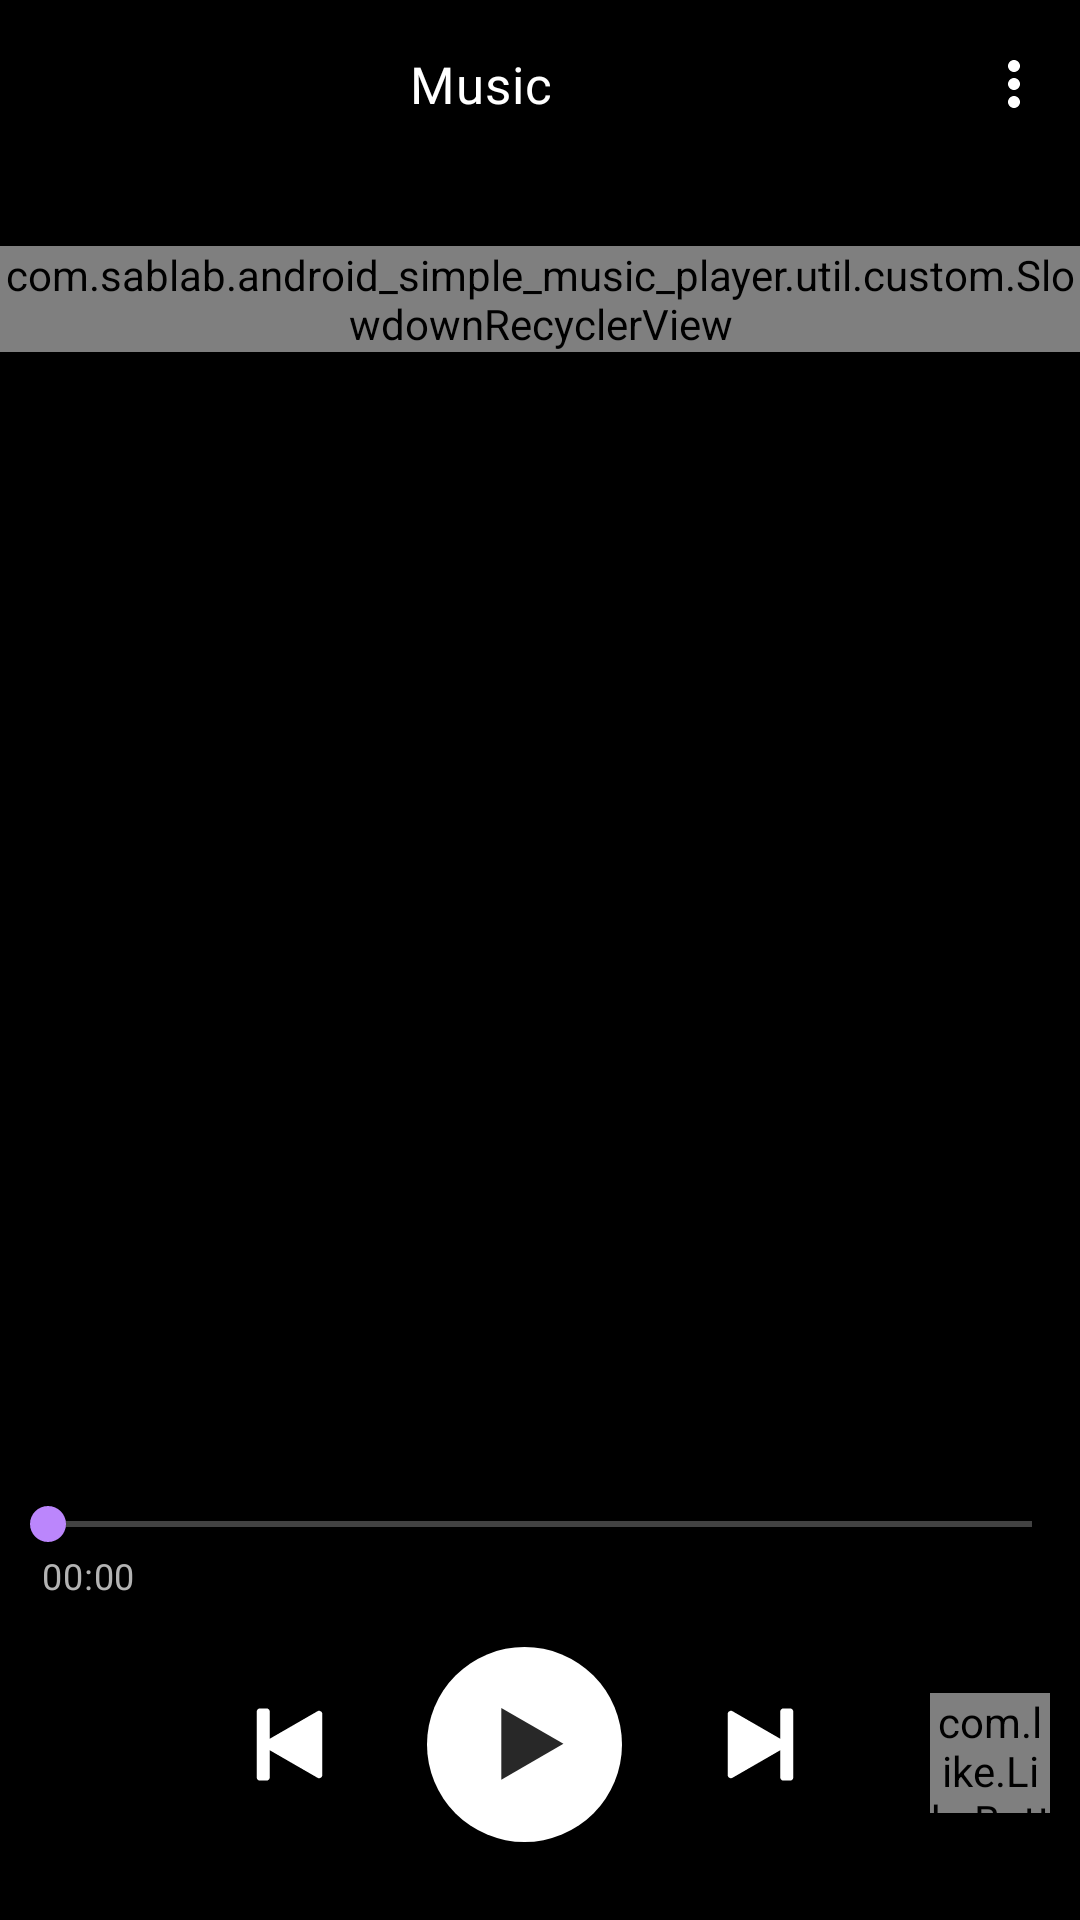

Screen size 1080x1920. Icon name, then its box in pixels as (x1, y1, x2, y2):
left: (256, 1708, 323, 1781)
play: (427, 1647, 622, 1842)
right: (727, 1708, 794, 1781)
